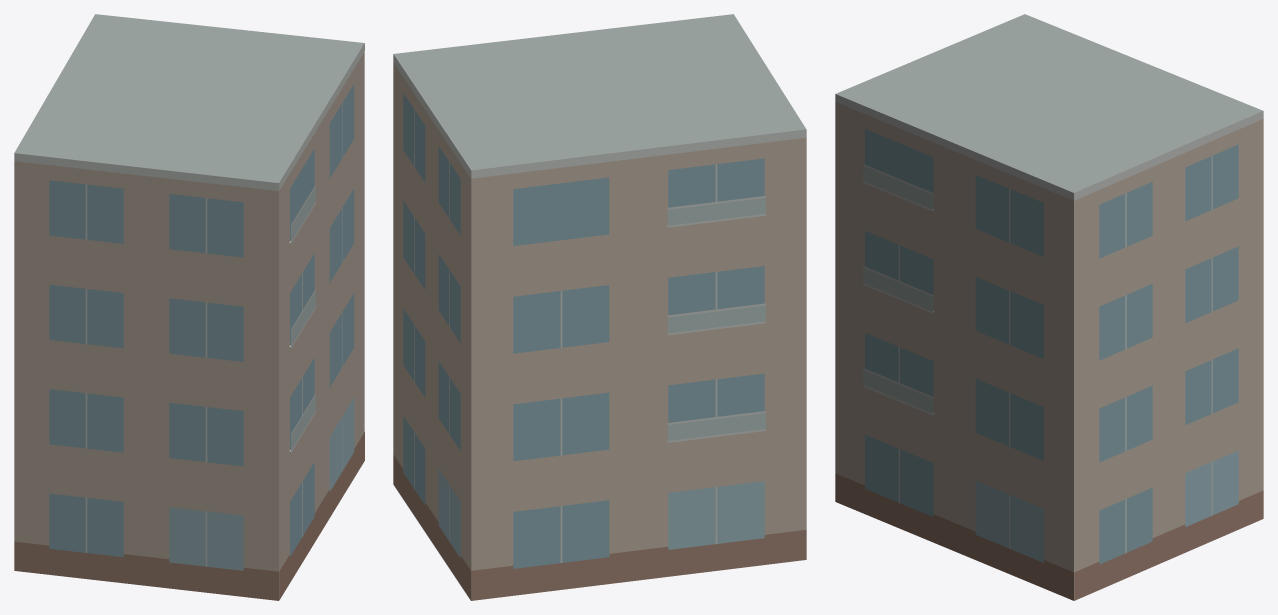
File: survey-upis-32785949.glb
3 renders of one model, left to right at view 1: azimuth 30°, elevation 25°; view 2: azimuth 150°, elevation 25°; view 3: azimuth 270°, elevation 25°, orthographic. The views are drawn at different scales.
Visible parts, largest first — view 1: survey-upis-32785949.tmp; view 2: survey-upis-32785949.tmp; view 3: survey-upis-32785949.tmp.
Part boxes in pixels (x1,y1,x2,y2): survey-upis-32785949.tmp: (14, 14, 364, 600); survey-upis-32785949.tmp: (393, 14, 806, 600); survey-upis-32785949.tmp: (835, 14, 1263, 600).
Bounding box in the file's own units: 11.96 × 12.7 × 12.09.
